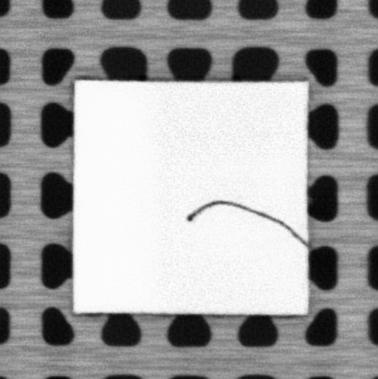DIE_INK: (185, 199, 306, 244)
